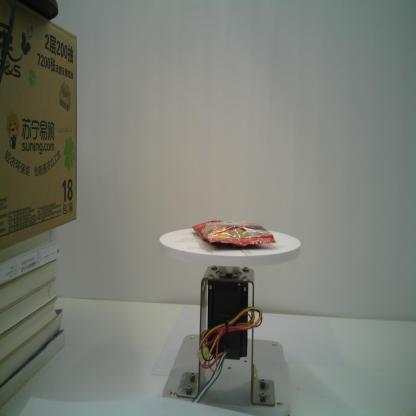Instant Drink: (191, 219, 277, 247)
